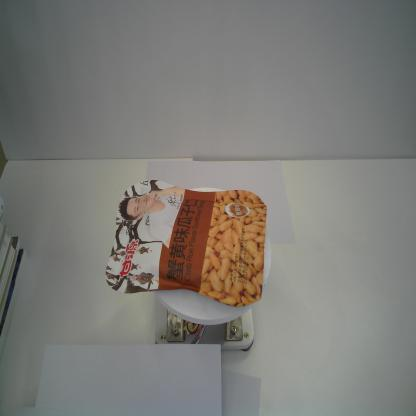Dried Fruit: (105, 178, 268, 308)
